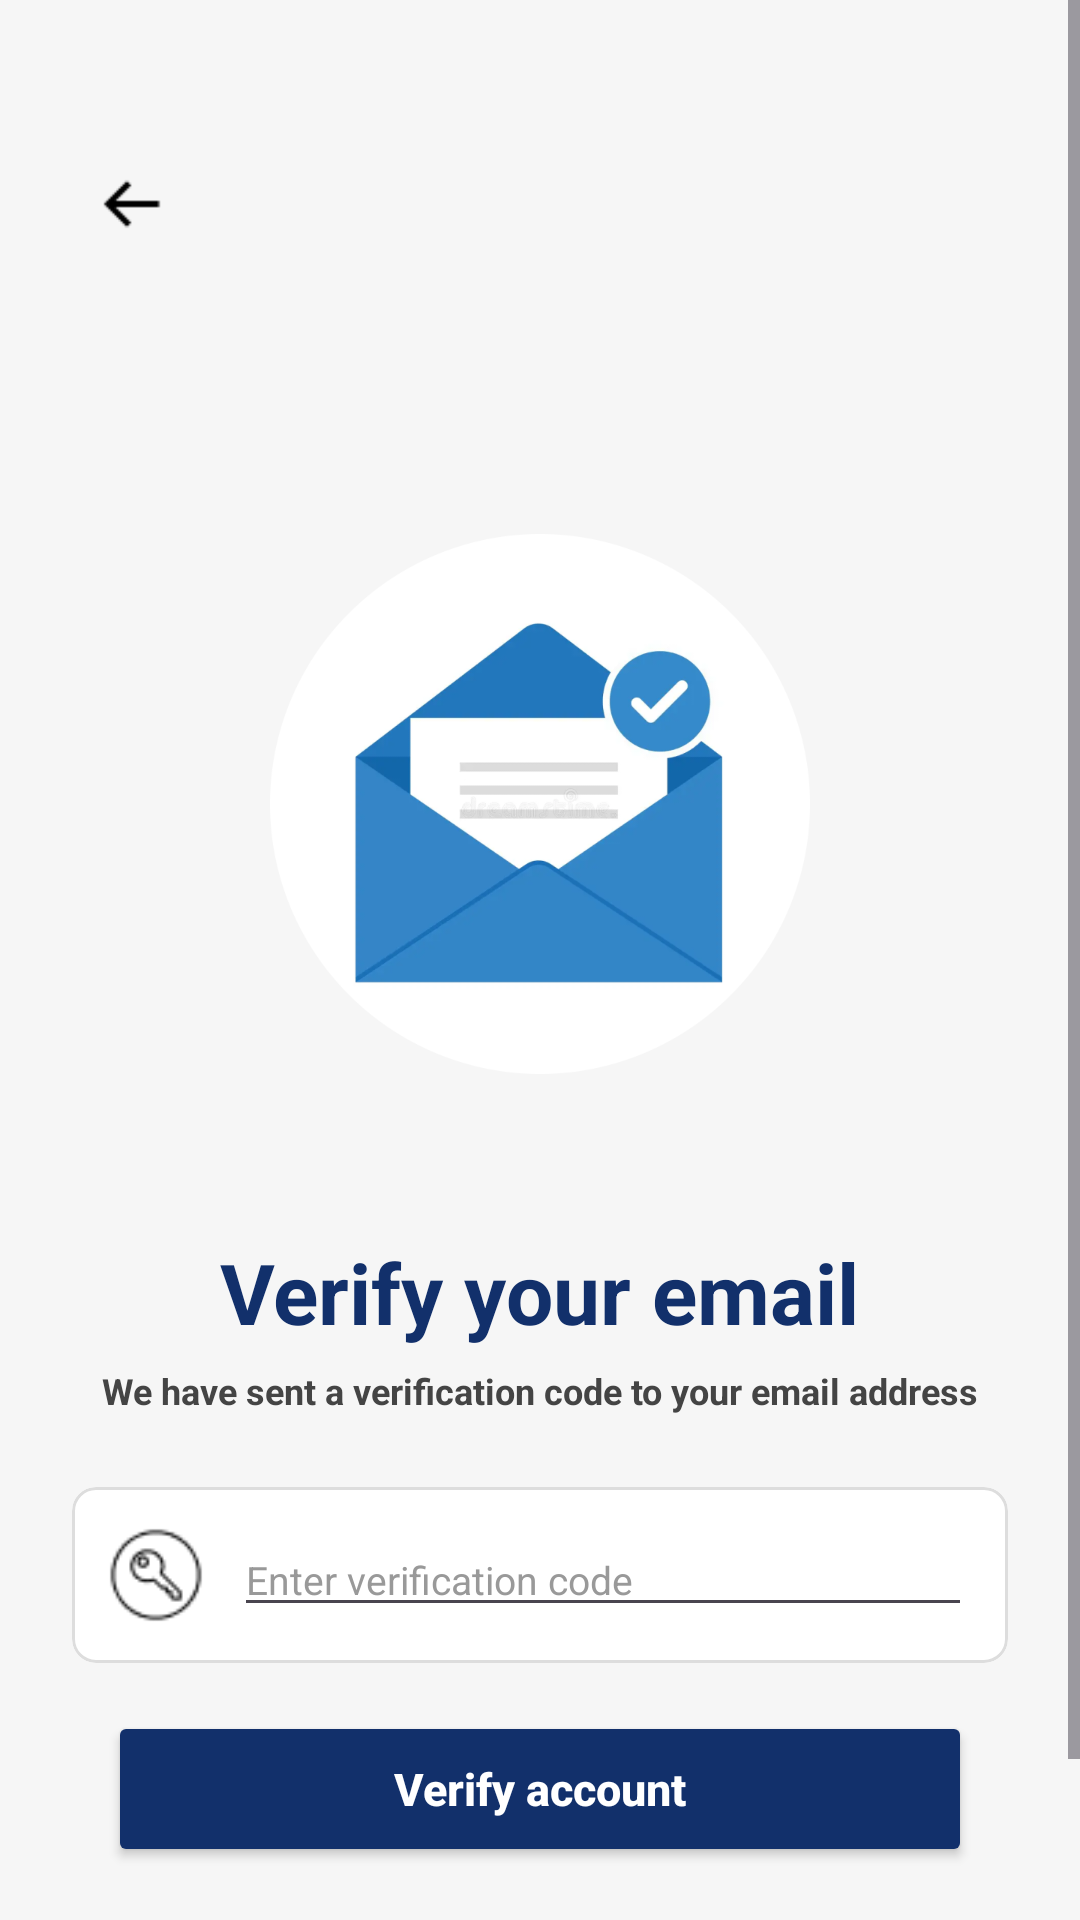

Icon bounding boxes for this 1080*1920 phone screenshot, format (x1, y1, x2, y2):
Back: (103, 180, 160, 228)
